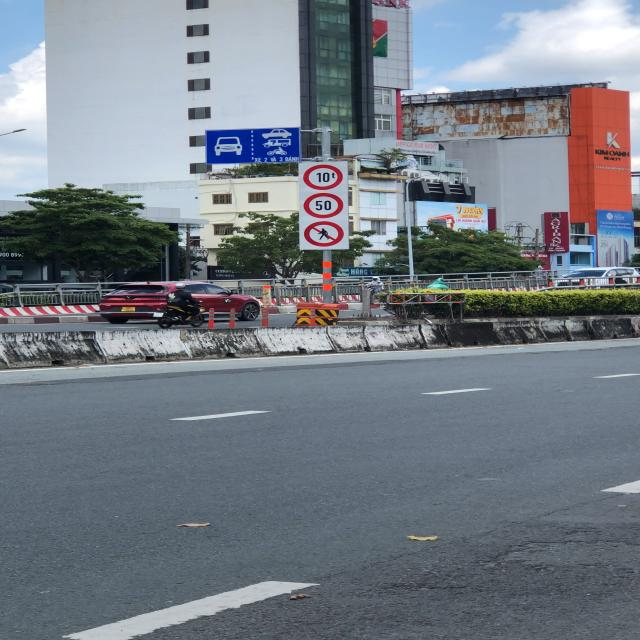Bien bao cam nguoi di bo: (302, 218, 350, 248)
Bien bao toc do toi da cho phep: (302, 192, 350, 220)
